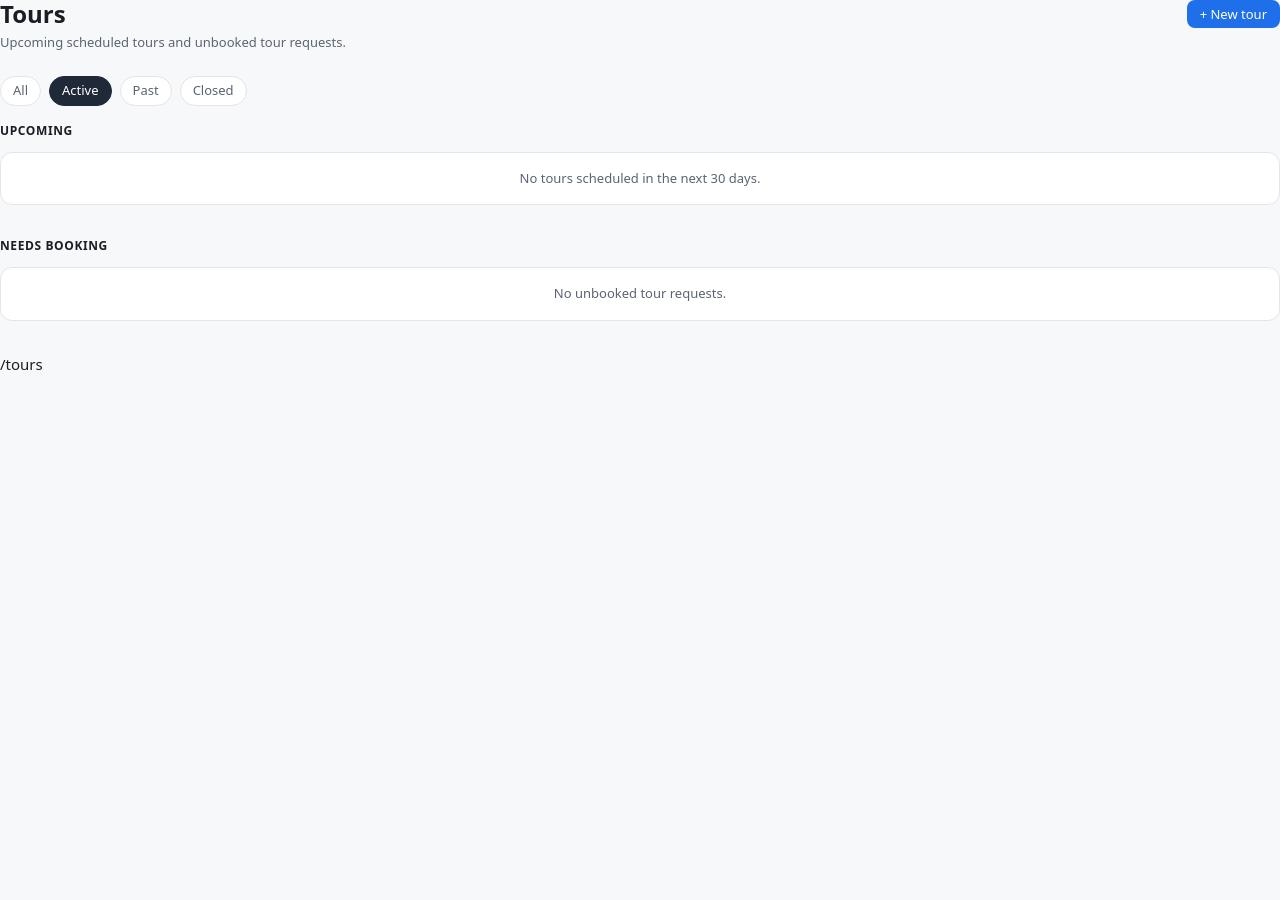
Test case: ToursPage › "+ New tour" opens the Schedule-a-tour dialog with BOTH sides as free typeaheads
Click the button "+ New tour": coordinates (1233, 14) 1187,0 -> 1279,28
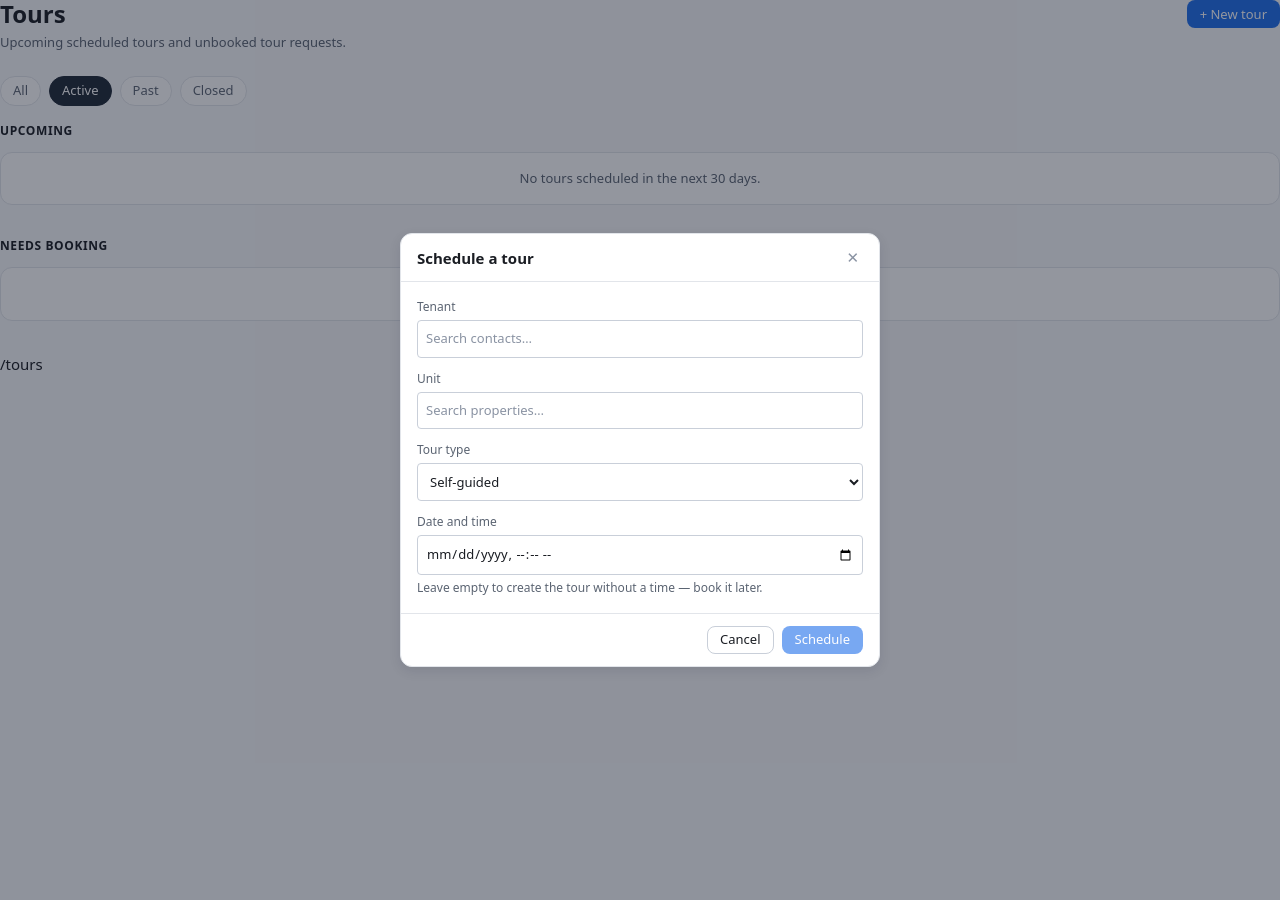
Expected: the dialog "Schedule a tour" is shown, 400,233 -> 880,667
Expected: the dropdown named "Tenant" is shown, 417,320 -> 863,358
Expected: the dropdown named "Unit" is shown, 417,392 -> 863,429
Note: Cancel closes it without creating anything.
Click the button "Cancel": coordinates (740, 640) 707,626 -> 774,654
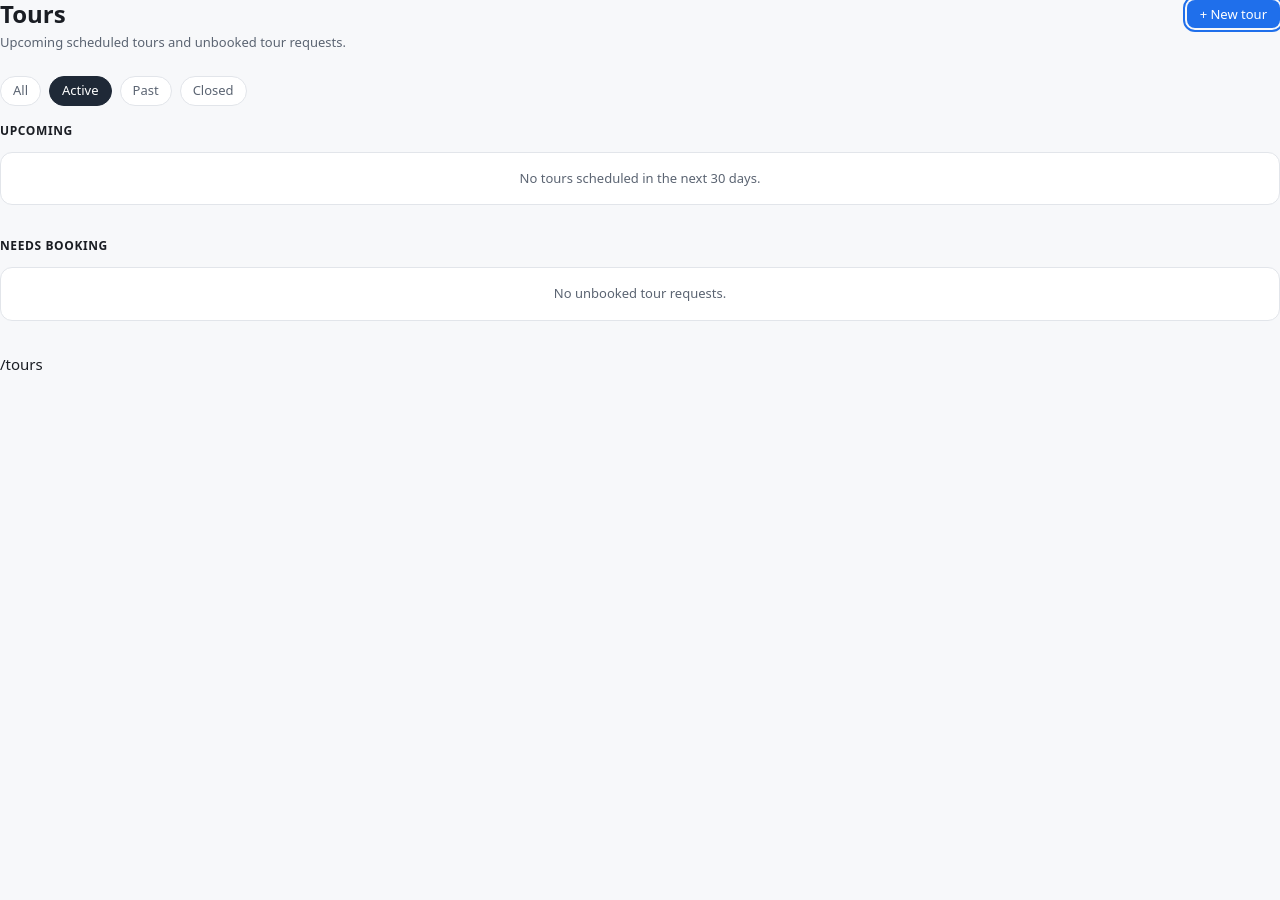
Expected: the dialog is gone
